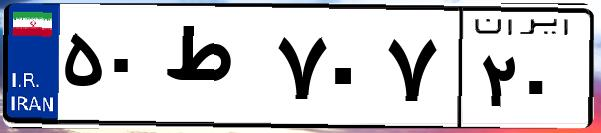0: (330, 28, 385, 110), (525, 38, 570, 115), (110, 28, 158, 98)
2: (475, 38, 525, 113)
5: (57, 26, 110, 100)
7: (270, 28, 330, 110), (385, 28, 445, 110)
ط: (158, 20, 270, 120)
